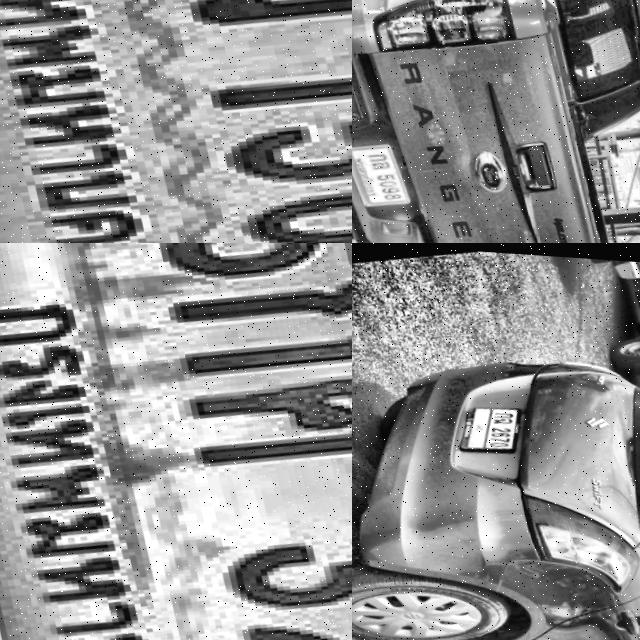license-plate: (0, 243, 352, 640), (0, 0, 352, 243), (446, 395, 531, 457), (352, 138, 403, 211)
